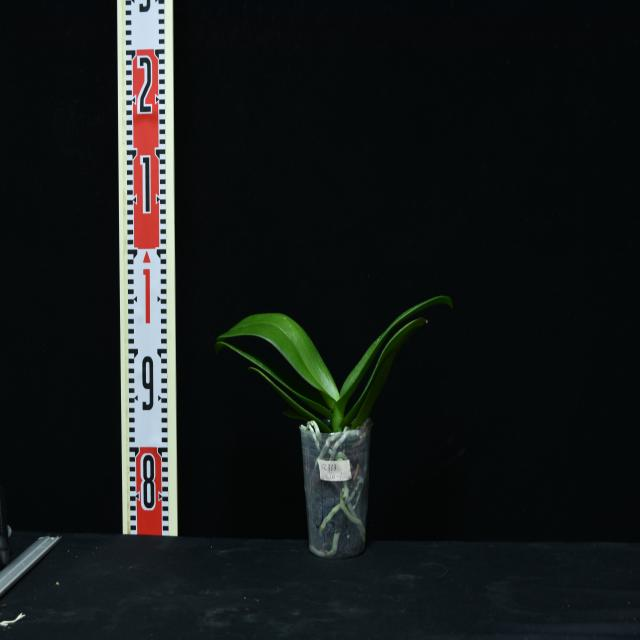leaf: (336, 295, 452, 414), (217, 311, 339, 408), (214, 342, 332, 422), (346, 317, 427, 425), (249, 368, 333, 433)
